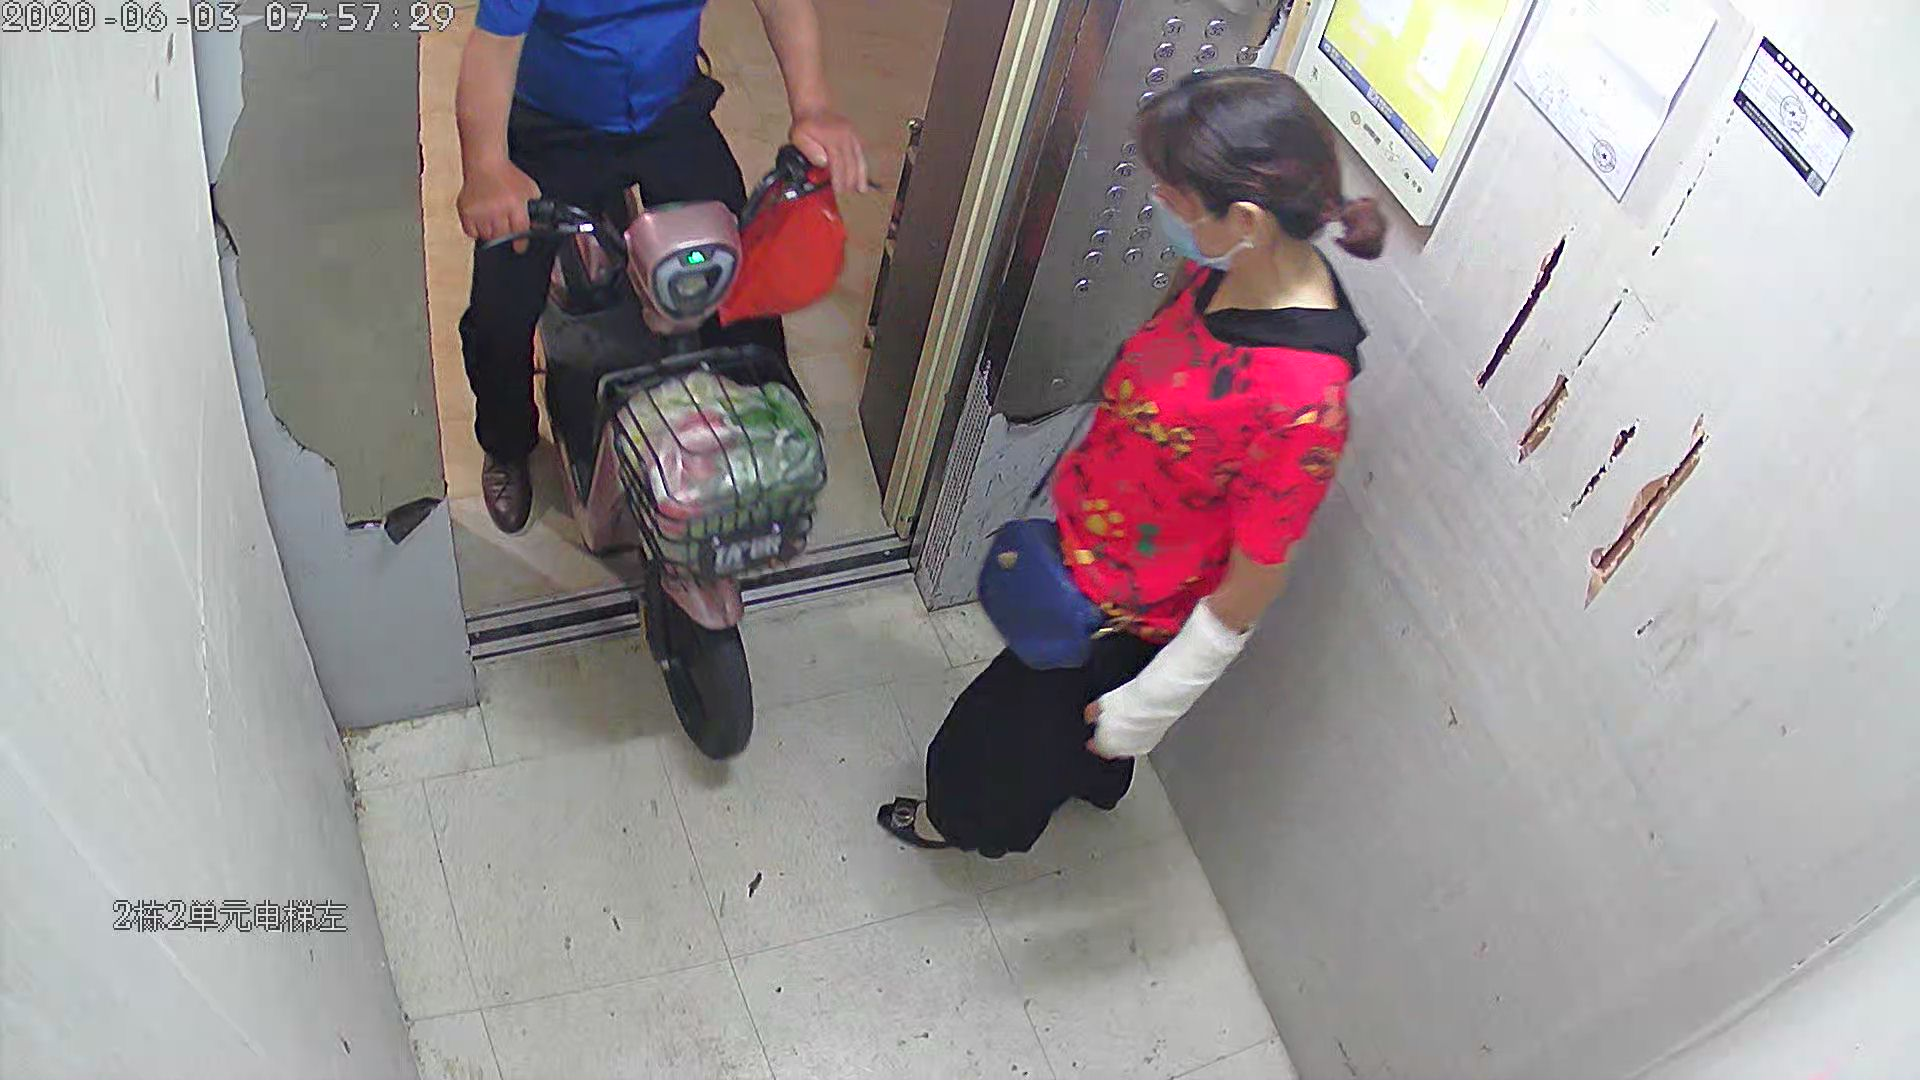Electric-bicycle: (465, 153, 840, 765)
